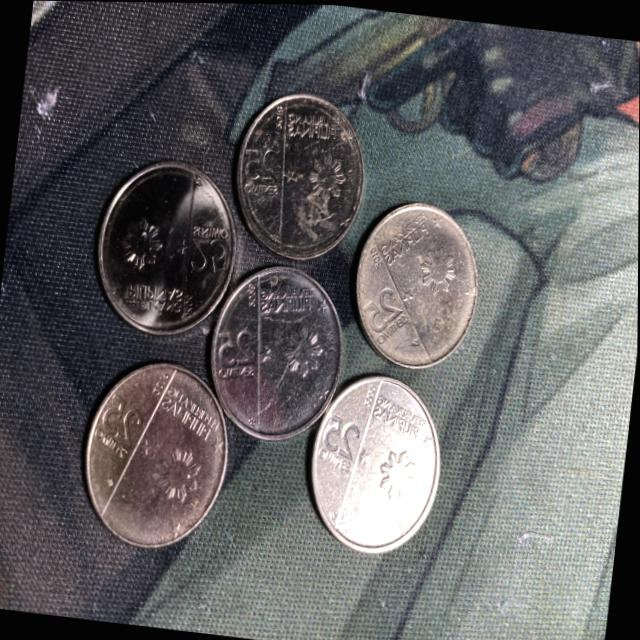25Cent_New_Front: (211, 321, 259, 372), (320, 409, 365, 463), (103, 396, 147, 449), (364, 281, 405, 333), (240, 136, 283, 185), (187, 227, 232, 273)
